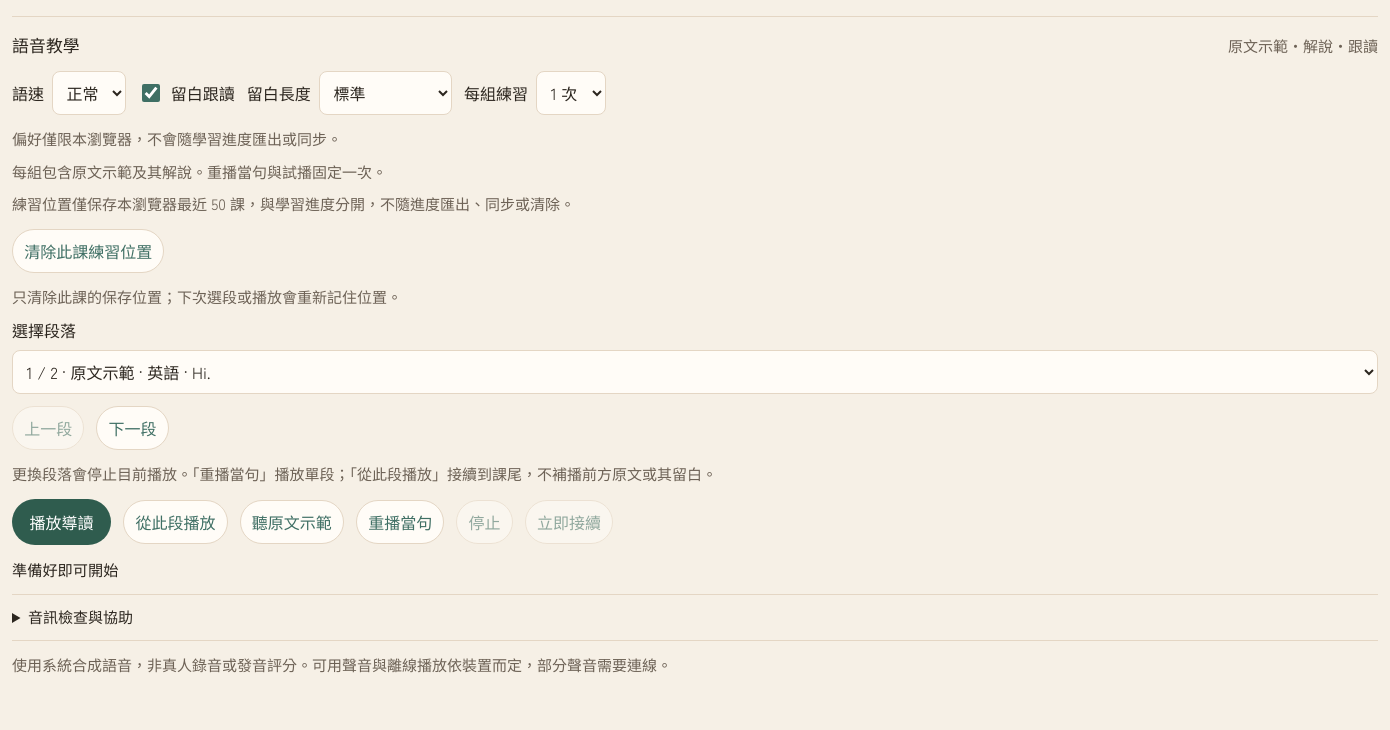
Test: 語音教學的真實元件互動 › 手動選段保存位置，重新掛載只提示；接續才播放該段到課尾
Select "2 / 2 · 原文示範 · 英語 · Bye." in the dropdown labelled "選擇段落": (695, 372) [12,350,1378,394]
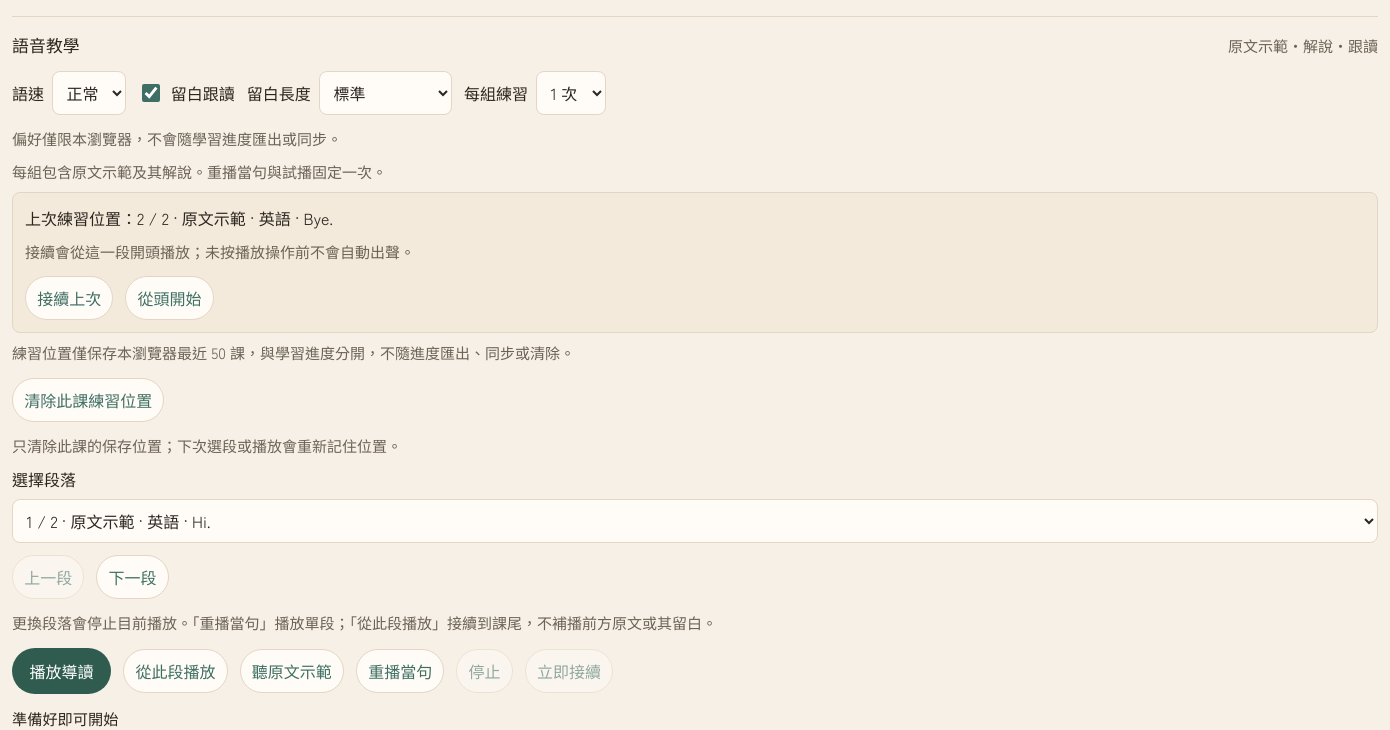
Check: the dropdown labelled "選擇段落" shows "1 / 2 · 原文示範 · 英語 · Hi.", box [12,499,1378,543]
Check: the element with class "audio-lesson-resume" shows "2 / 2", box [137,206,333,230]
Check: the button "接續上次" is shown
Click the button "接續上次": click(69, 298) [25,276,113,320]
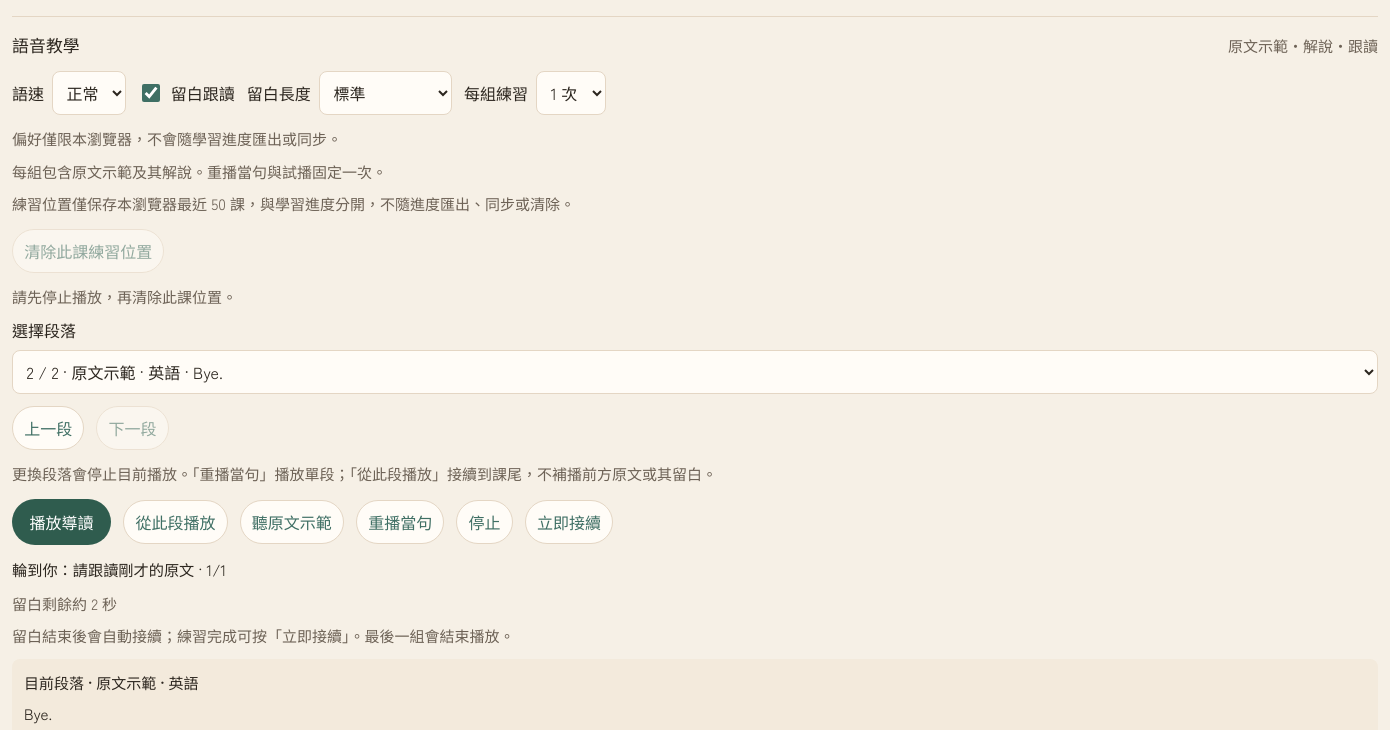
Check: the dropdown labelled "選擇段落" shows "2 / 2 · 原文示範 · 英語 · Bye.", box [12,350,1378,394]
Check: the element with class "audio-lesson-resume" is gone
Click the button "立即接續": click(569, 522) [525,500,613,544]
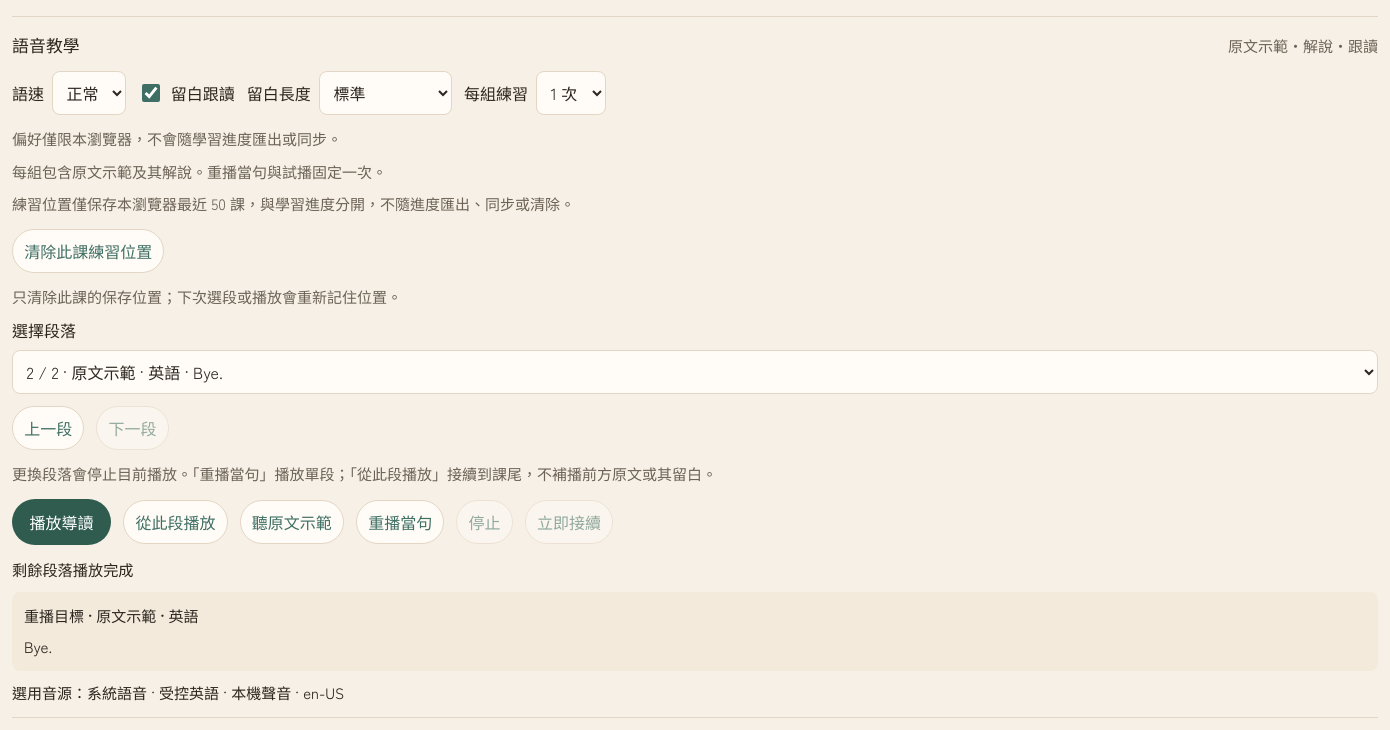
Check: the message with class "audio-lesson-status" reads "剩餘段落播放完成", box [12,558,134,580]
